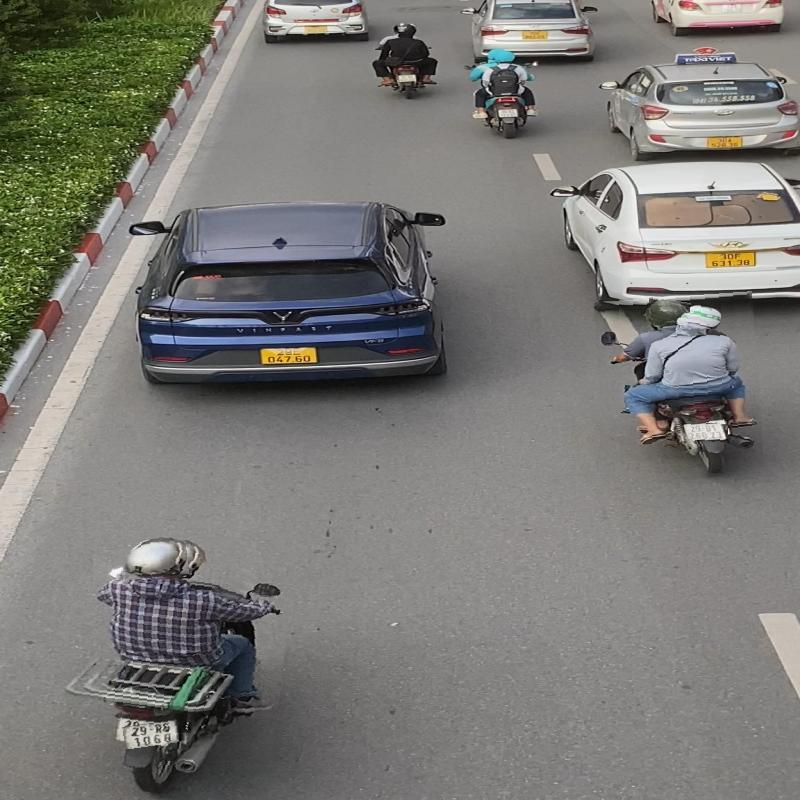helmet: (122, 534, 188, 578), (648, 298, 690, 324), (679, 305, 721, 329)
licenseplate: (122, 721, 178, 748), (683, 422, 728, 442)
motorcyclist: (57, 527, 289, 800), (596, 294, 761, 480)
